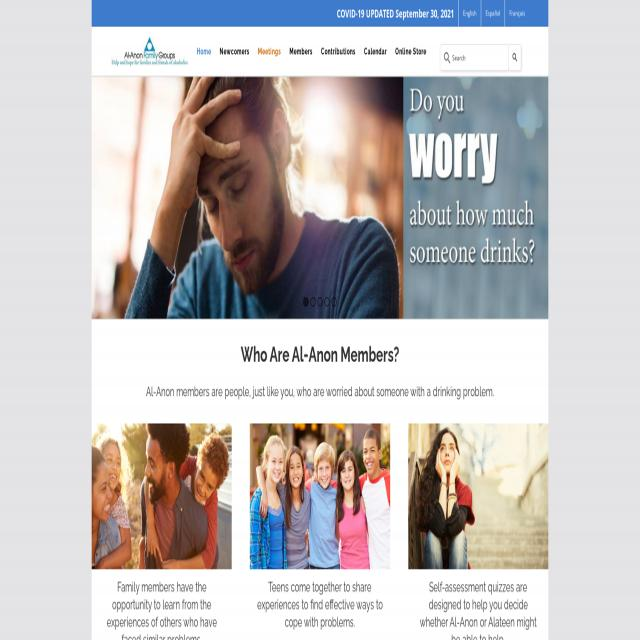button: (92, 424, 232, 568), (250, 424, 390, 568), (408, 424, 548, 568), (332, 0, 458, 27), (110, 36, 190, 67), (321, 39, 355, 64), (220, 39, 250, 64), (396, 39, 426, 64), (505, 0, 529, 27), (481, 0, 505, 27), (459, 0, 481, 27), (258, 39, 281, 64), (364, 39, 387, 64), (290, 39, 312, 64), (197, 39, 211, 64), (508, 45, 521, 71)
field: (440, 44, 508, 70)
